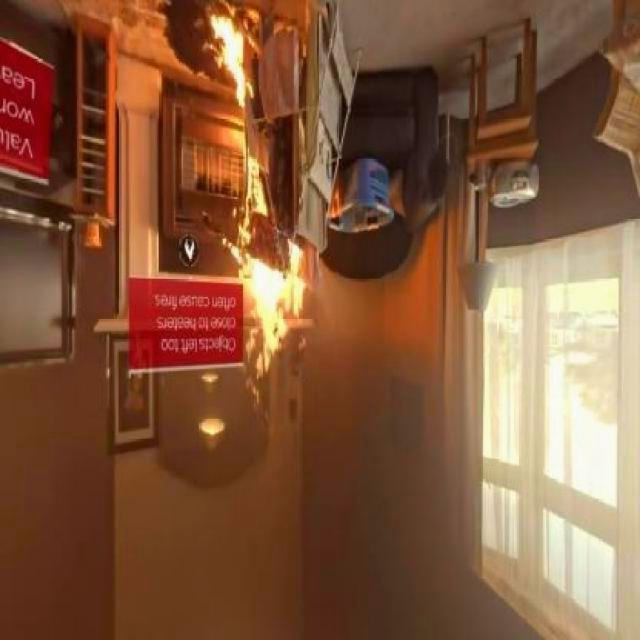fire: (223, 226, 303, 364)
